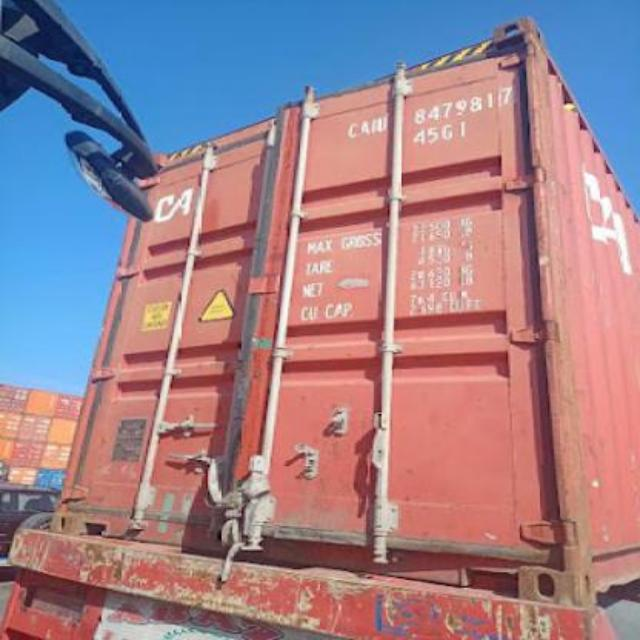1: (482, 88, 496, 114)
4: (428, 99, 440, 123)
7: (494, 80, 512, 106), (440, 98, 452, 120)
8: (412, 102, 424, 126), (471, 94, 484, 115)
9: (456, 95, 466, 118)
A: (358, 111, 368, 143)
C: (344, 114, 358, 142)
I: (368, 113, 378, 137)
U: (376, 113, 388, 137)
